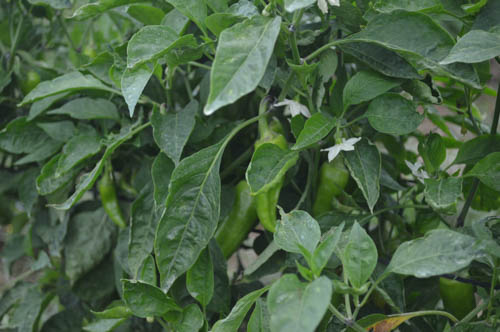ChiliPepper: (215, 179, 261, 269), (251, 137, 290, 234), (309, 161, 347, 223)
